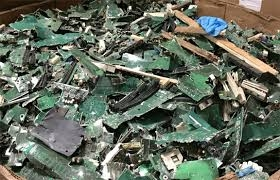paper: (97, 80, 183, 131), (28, 103, 94, 159), (8, 12, 87, 52), (174, 61, 231, 102), (165, 109, 222, 148), (240, 106, 280, 144), (167, 155, 221, 180)
plastic: (194, 12, 233, 40)
